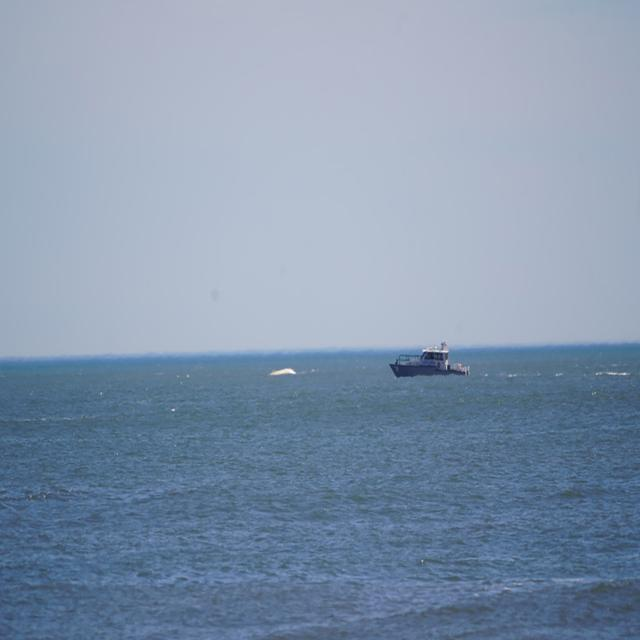houseboat: (389, 335, 468, 378)
